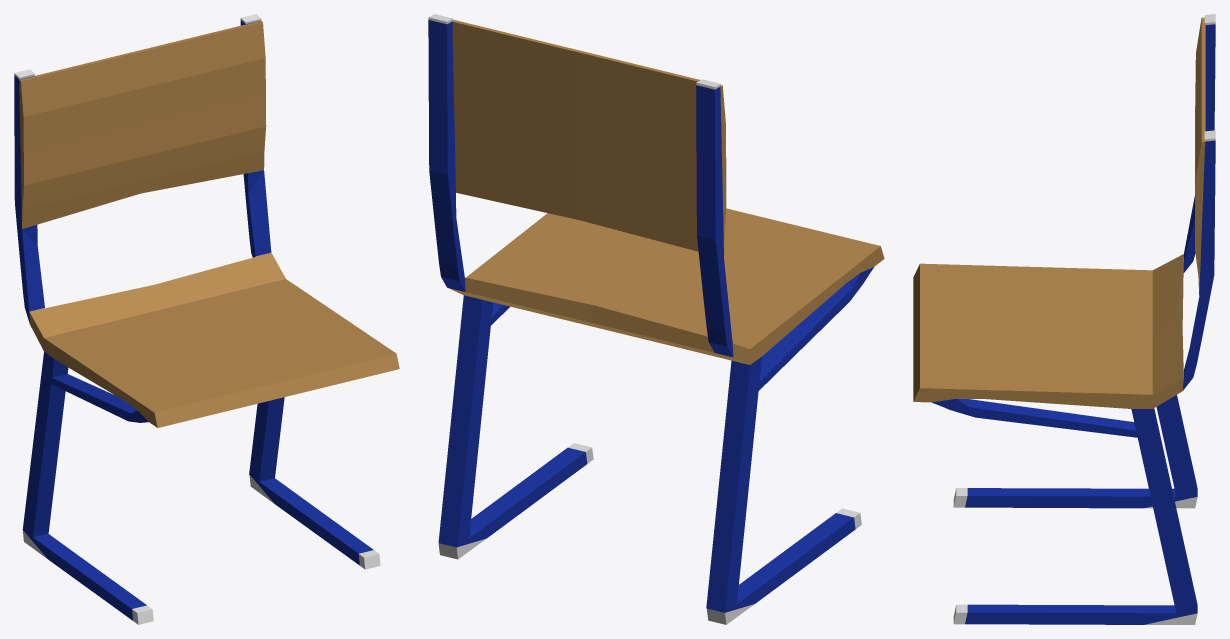
Rendered from schoolChairType1.glb.
The picture shows the model from 3 angles, left to right: view 1: azimuth 30°, elevation 25°; view 2: azimuth 150°, elevation 25°; view 3: azimuth 270°, elevation 25°; orthographic projection. The views are drawn at different scales.
Parts seen in each view (by area): view 1: Cube; view 2: Cube; view 3: Cube.
Part boxes in pixels (x1=…): Cube: x1=14, y1=14, x2=399, y2=624; Cube: x1=428, y1=14, x2=884, y2=624; Cube: x1=913, y1=14, x2=1215, y2=624.
Size of the model in its own units: 2.02 by 3.69 by 2.08.
